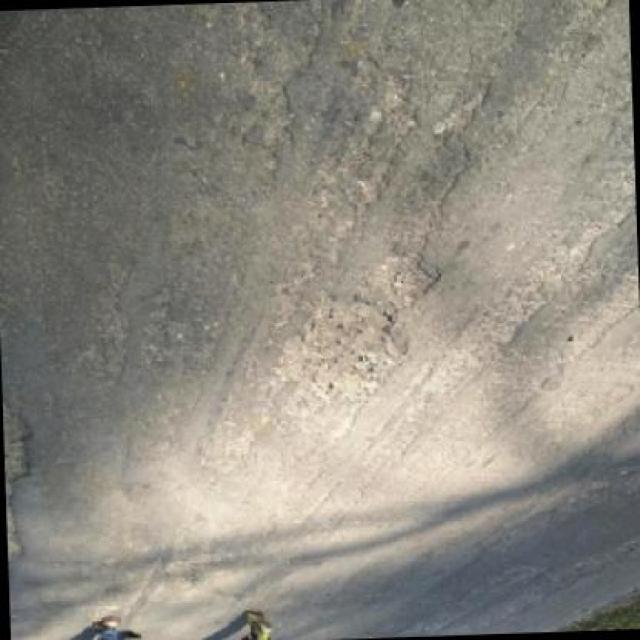pothole1: (266, 296, 408, 404), (374, 256, 440, 306)
